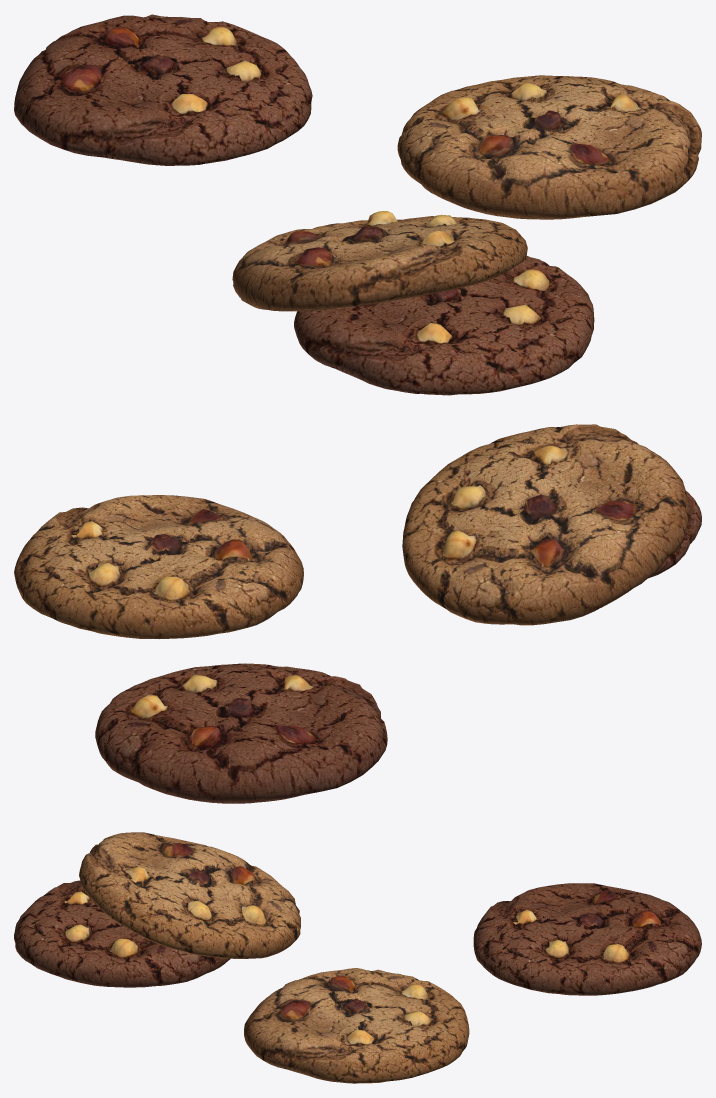
Rendered from cookies.glb.
The picture shows the model from 3 angles, top to bottom: view 1: azimuth 30°, elevation 25°; view 2: azimuth 150°, elevation 25°; view 3: azimuth 270°, elevation 25°; orthographic projection. The views are drawn at different scales.
Visible parts, largest first — view 1: Cookie_Chocolate_01_Cookie_Chocolate_0, Cookie_01_Cookie_0; view 2: Cookie_01_Cookie_0, Cookie_Chocolate_01_Cookie_Chocolate_0; view 3: Cookie_01_Cookie_0, Cookie_Chocolate_01_Cookie_Chocolate_0.
Boxes of the visible parts, x1,y1,x2,y2 form: Cookie_Chocolate_01_Cookie_Chocolate_0: [14, 14, 594, 395]; Cookie_01_Cookie_0: [232, 75, 701, 311]; Cookie_01_Cookie_0: [14, 424, 689, 638]; Cookie_Chocolate_01_Cookie_Chocolate_0: [95, 491, 701, 803]; Cookie_01_Cookie_0: [79, 832, 469, 1083]; Cookie_Chocolate_01_Cookie_Chocolate_0: [14, 880, 701, 995].
Bounding box in the file's own units: 0.0932 × 0.0173 × 0.1348.
2 materials, 2 textured.
